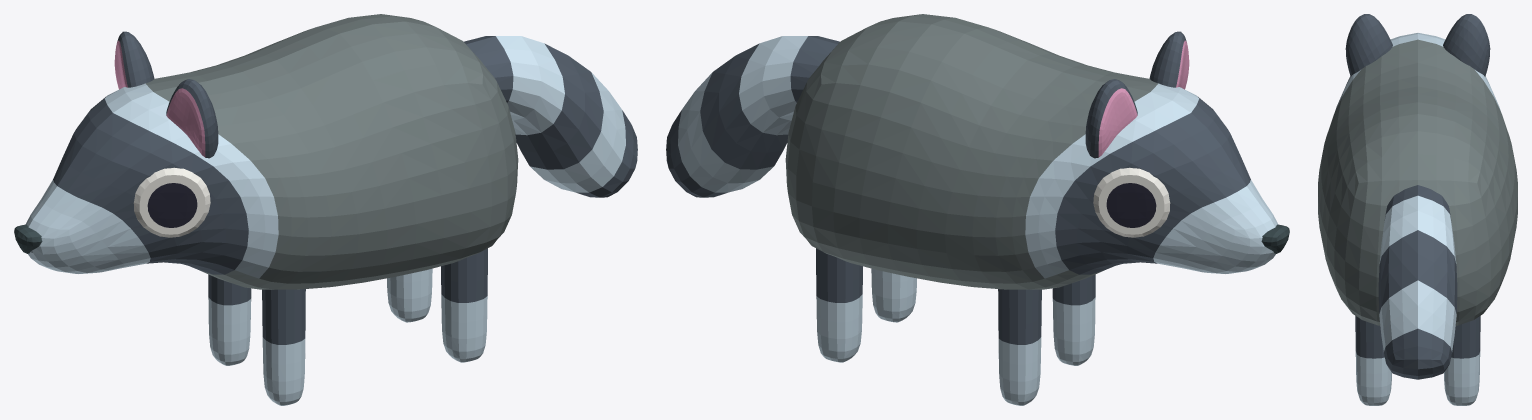
File: Raccoon_LOD0.fbx
3 renders of one model, left to right at view 1: azimuth 30°, elevation 25°; view 2: azimuth 150°, elevation 25°; view 3: azimuth 270°, elevation 25°, orthographic. The views are drawn at different scales.
Parts seen in each view (by area): view 1: Mesh; view 2: Mesh; view 3: Mesh.
Part boxes in pixels (box(x1,y1,x2,y2)): Mesh: box(14, 14, 637, 405); Mesh: box(666, 14, 1289, 405); Mesh: box(1318, 14, 1517, 405).
Bounding box in the file's own units: 298 × 160 × 104.
1 material, 1 textured.
